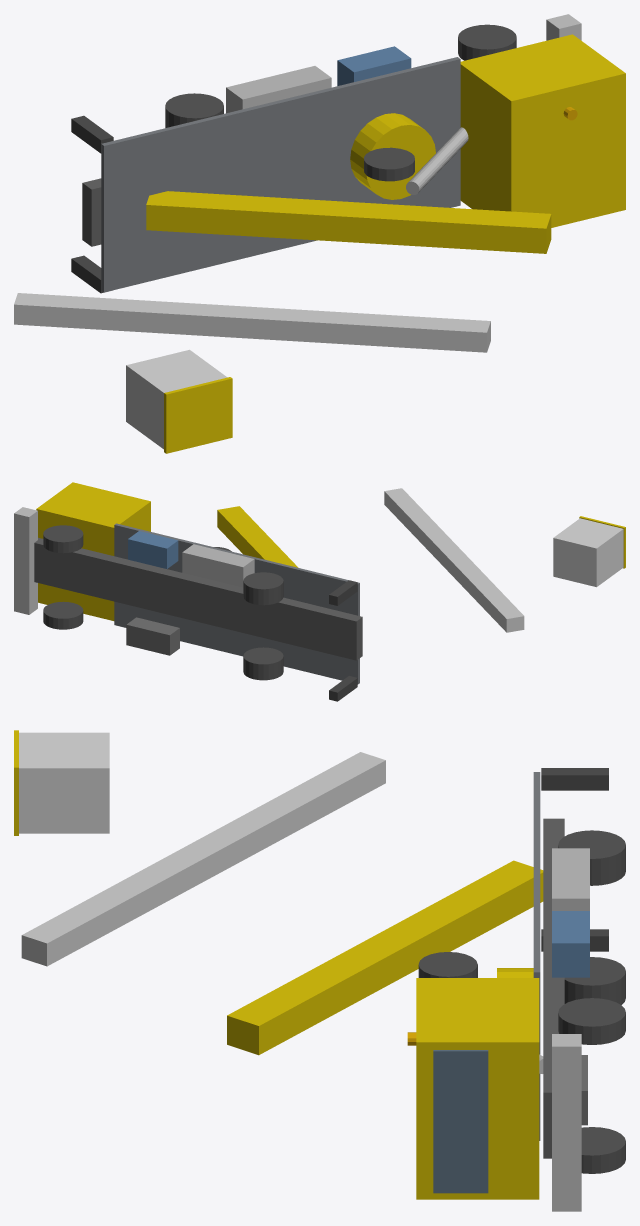
File: arast_isuzu_npr75ukh_22m.glb
3 views of the same model, one above another, from view 1: azimuth 30°, elevation 25°; view 2: azimuth 150°, elevation 25°; view 3: azimuth 270°, elevation 25° (orthographic). The views are drawn at different scales.
Parts seen in each view (by area): view 1: deck_platform, isuzu_cab_body, base_boom_section, telescopic_extension_boom, fibreglass_bucket_swl_200kg, bucket_safety_railing, turntable_pedestal, toolbox_left, hydraulic_tank, wheel_front_r, hose_coiler_reel, wheel_rear_r (+5 smaller); view 2: chassis_frame, deck_platform, isuzu_cab_body, telescopic_extension_boom, fibreglass_bucket_swl_200kg, front_bumper, base_boom_section, toolbox_left, fuel_tank, hydraulic_tank, wheel_rear_l, wheel_rear_r (+4 smaller); view 3: isuzu_cab_body, base_boom_section, telescopic_extension_boom, fibreglass_bucket_swl_200kg, windshield, front_bumper, chassis_frame, wheel_front_r, hydraulic_tank, toolbox_left, wheel_rear_r, wheel_rear_l (+4 smaller).
Boxes of the visible parts, x1,y1,x2,y2 form: deck_platform: (101,57,460,292); isuzu_cab_body: (460,34,625,227); base_boom_section: (146,191,551,253); telescopic_extension_boom: (14,293,490,352); fibreglass_bucket_swl_200kg: (126,349,227,449); bucket_safety_railing: (164,377,232,453); turntable_pedestal: (350,113,435,199); toolbox_left: (226,66,331,113); hydraulic_tank: (337,46,411,85); wheel_front_r: (458,24,516,60); hose_coiler_reel: (364,147,414,181); wheel_rear_r: (165,93,223,127); chassis_frame: (34,537,362,660); deck_platform: (114,523,359,684); isuzu_cab_body: (36,482,150,620); telescopic_extension_boom: (384,488,524,632); fibreglass_bucket_swl_200kg: (553,518,623,587); front_bumper: (14,507,37,614); base_boom_section: (217,506,298,567); toolbox_left: (182,544,254,587); fuel_tank: (126,617,179,655); hydraulic_tank: (128,531,178,568); wheel_rear_l: (243,647,283,680); wheel_rear_r: (243,572,283,605); isuzu_cab_body: (416,978,539,1199); base_boom_section: (227,860,543,1055); telescopic_extension_boom: (21,752,385,966); fibreglass_bucket_swl_200kg: (19,732,109,833); windshield: (433,1050,488,1193); front_bumper: (552,1034,581,1211); chassis_frame: (543,818,564,1158); wheel_front_r: (558,998,625,1044); hydraulic_tank: (552,911,589,977); toolbox_left: (552,848,589,910); wheel_rear_r: (558,830,625,885); wheel_rear_l: (564,957,625,1004).
Bounding box in the file's own units: 10.22 × 2.35 × 7.23.
